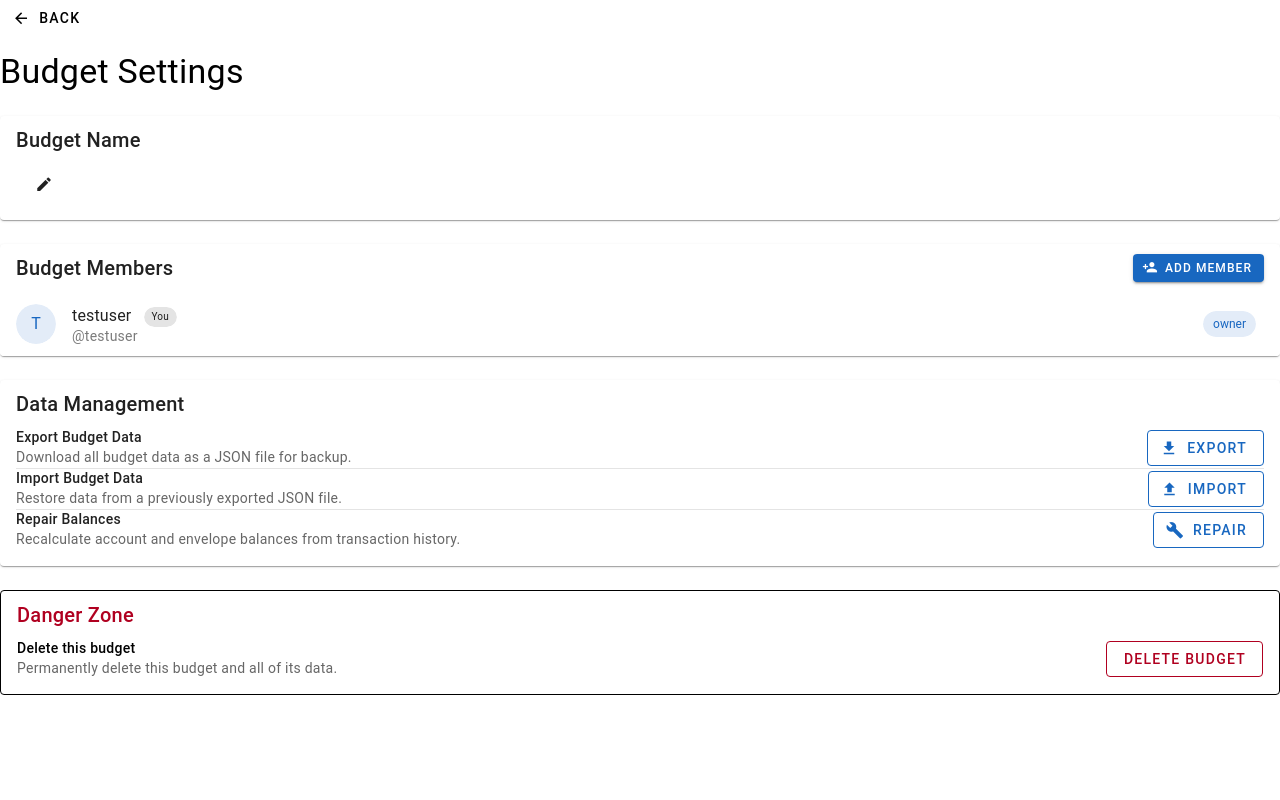
Test case: BudgetSettingsView › Danger Zone › opens delete confirmation dialog
Click the button "Delete Budget": [1184, 658] box [1106,640,1263,676]
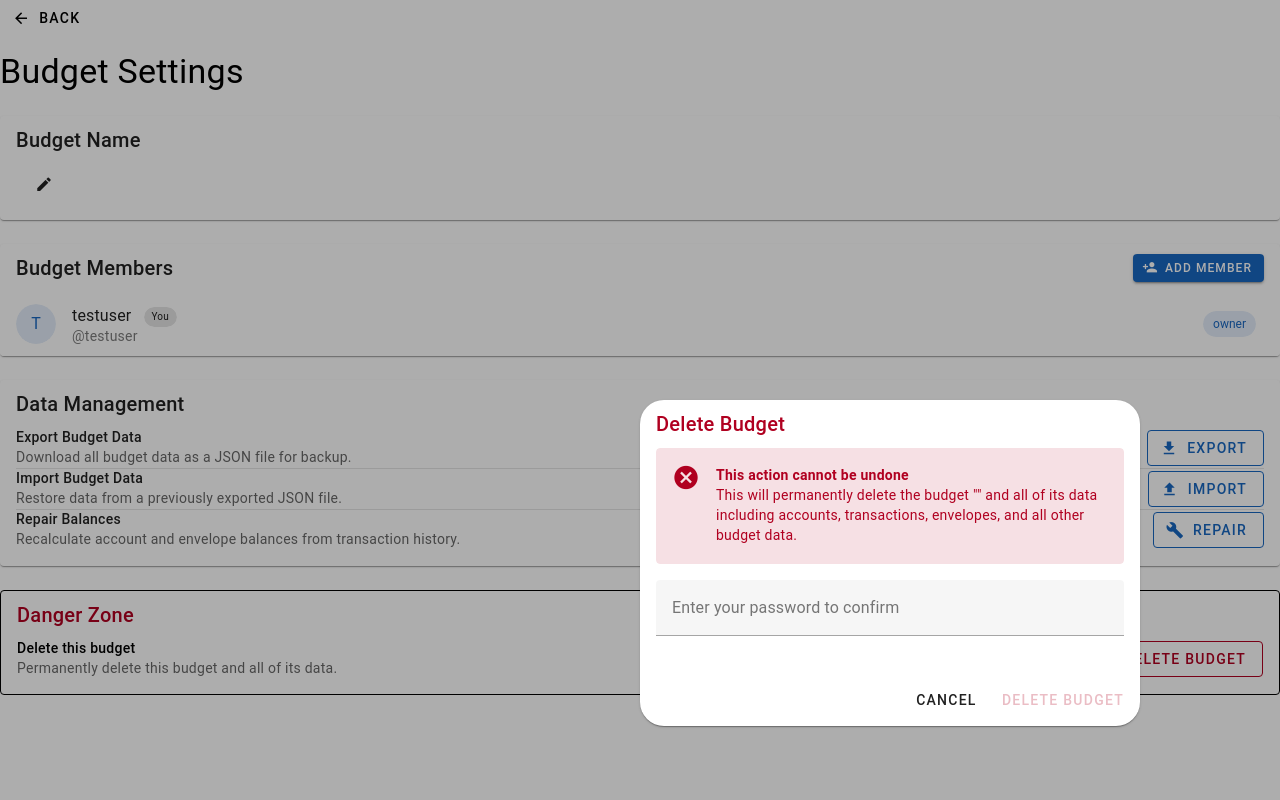
Expected: the text "This action cannot be undone" is shown, [716,467,909,483]
Expected: the text "password" is shown, [672,598,899,617]
